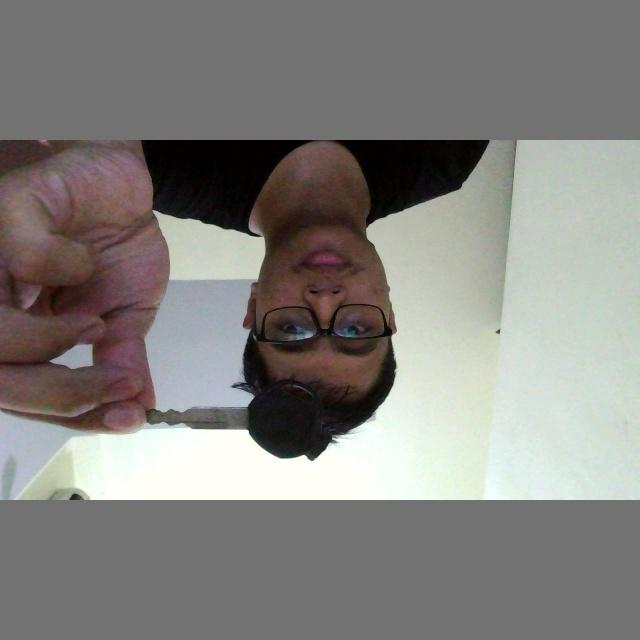Keys: (144, 381, 332, 464)
